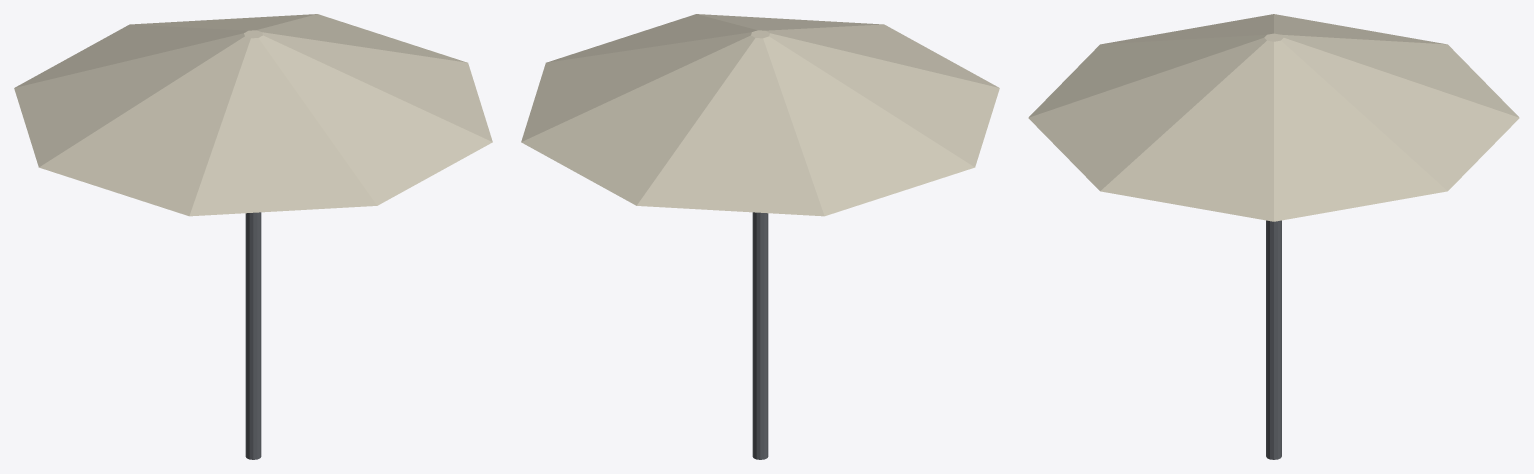
The model's file is umbrella.glb.
The picture shows the model from 3 angles, left to right: view 1: azimuth 30°, elevation 25°; view 2: azimuth 150°, elevation 25°; view 3: azimuth 270°, elevation 25°; orthographic projection.
Visible parts, largest first — view 1: umbrella; view 2: umbrella; view 3: umbrella.
Boxes of the visible parts, box(x1,y1,x2,y2) form: umbrella: box(14, 14, 492, 459); umbrella: box(521, 14, 999, 459); umbrella: box(1028, 14, 1519, 459).
Size of the model in its own units: 2.5 by 2.35 by 2.5.
